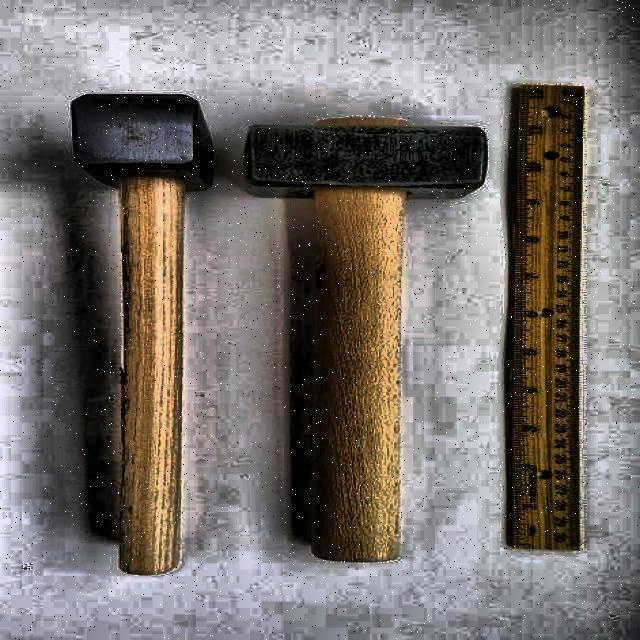hammer: (246, 113, 487, 566), (72, 91, 212, 575)
